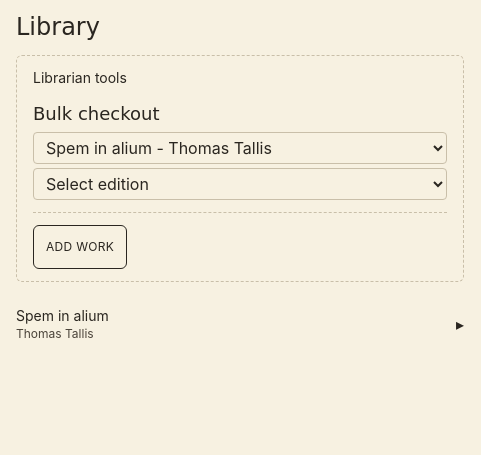
Test: #198 — the form is escapable › cancel closes the form and restores the entry-point button — no write
Click the button with test id "create-work-button" at (80, 247), box x1=33 y1=225 x2=127 y2=269
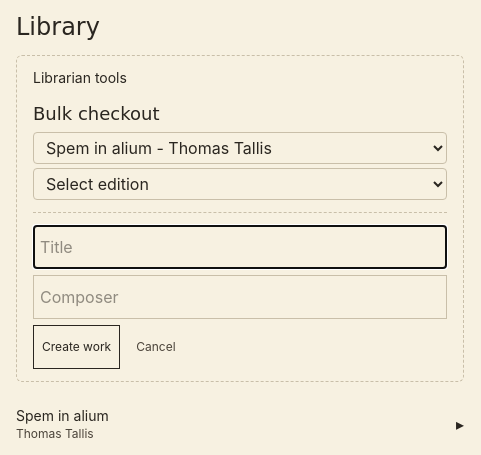
expect the element with test id "create-work-form" is shown: met, box x1=33 y1=225 x2=447 y2=369
Click the button with test id "create-work-cancel" at (156, 347), box x1=128 y1=325 x2=184 y2=369
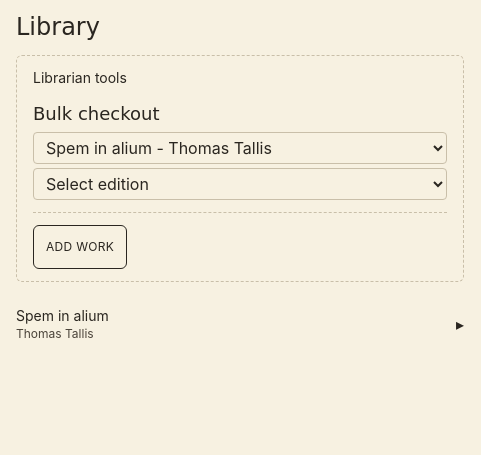
expect the element with test id "create-work-form" is gone: met
expect the button with test id "create-work-button" is shown: met, box x1=33 y1=225 x2=127 y2=269
